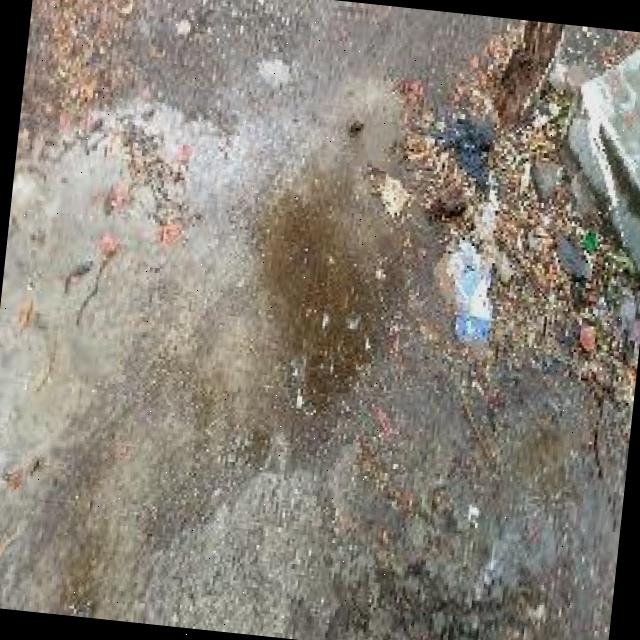stagnation: (206, 177, 404, 463)
